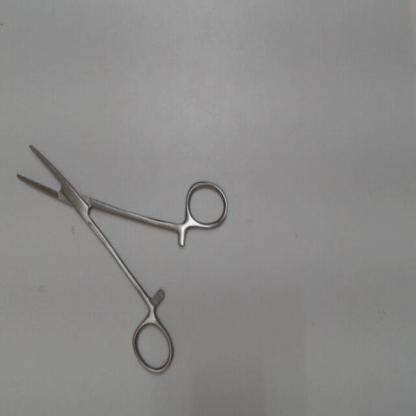Mayo Needle Holder: (9, 129, 235, 381)
